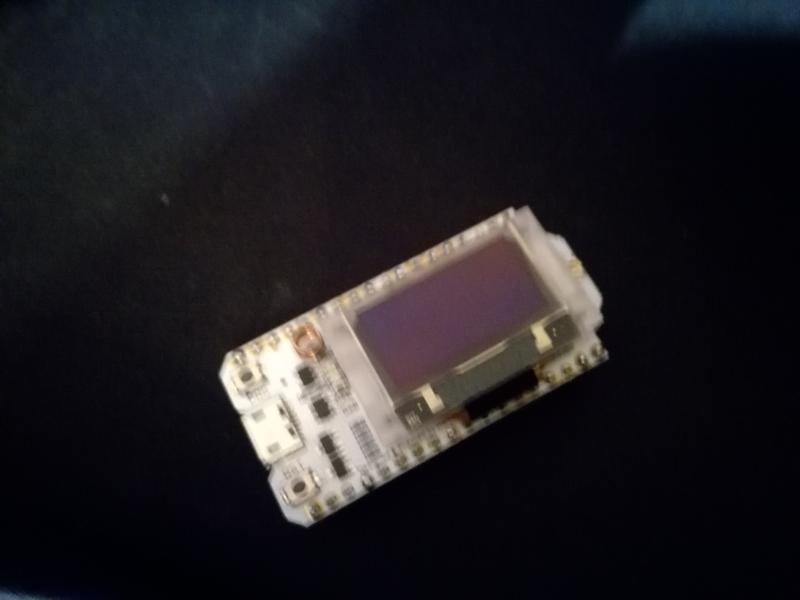Heltec_ESP32_Lora: (210, 195, 623, 534)
